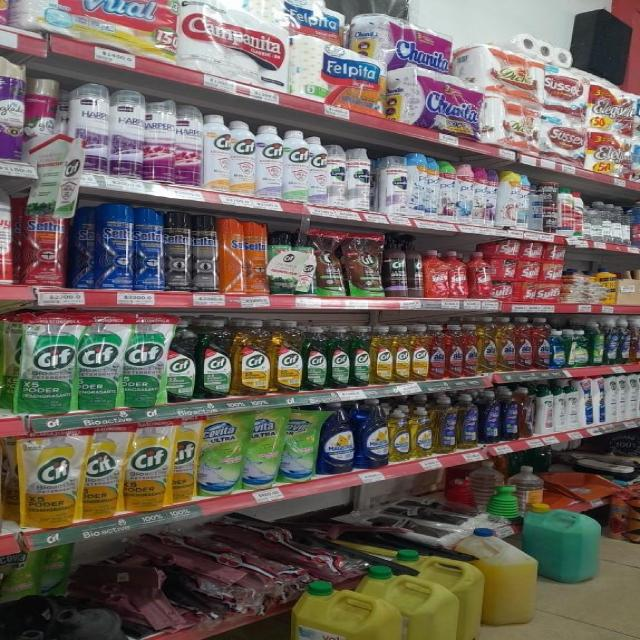ala_conc_amarillo: (496, 317, 515, 372), (479, 318, 495, 373)
ala_conc_azul: (551, 324, 565, 369)
ala_conc_rojo: (515, 317, 532, 371), (429, 324, 445, 380), (533, 317, 549, 370), (447, 324, 462, 378), (463, 323, 477, 376)
cif_conc_bot_amarilla: (233, 318, 270, 396), (272, 320, 302, 393), (372, 325, 392, 385), (411, 324, 429, 382), (393, 325, 410, 383)
cif_conc_botella_verde: (197, 318, 231, 399), (165, 318, 196, 402), (303, 324, 327, 390), (328, 326, 349, 388), (350, 326, 370, 386)
cif_conc_sachet_amarillo: (18, 430, 78, 528), (124, 420, 170, 511), (82, 425, 122, 519), (171, 417, 197, 503)
cif_conc_sachet_verde: (14, 312, 74, 413), (75, 312, 120, 410), (121, 313, 164, 407)
magistral_con_amarillo: (410, 406, 433, 459), (388, 405, 409, 462)
magistral_con_azul: (321, 401, 354, 474), (357, 399, 388, 468)
zorro: (434, 394, 456, 454), (457, 393, 478, 450)
